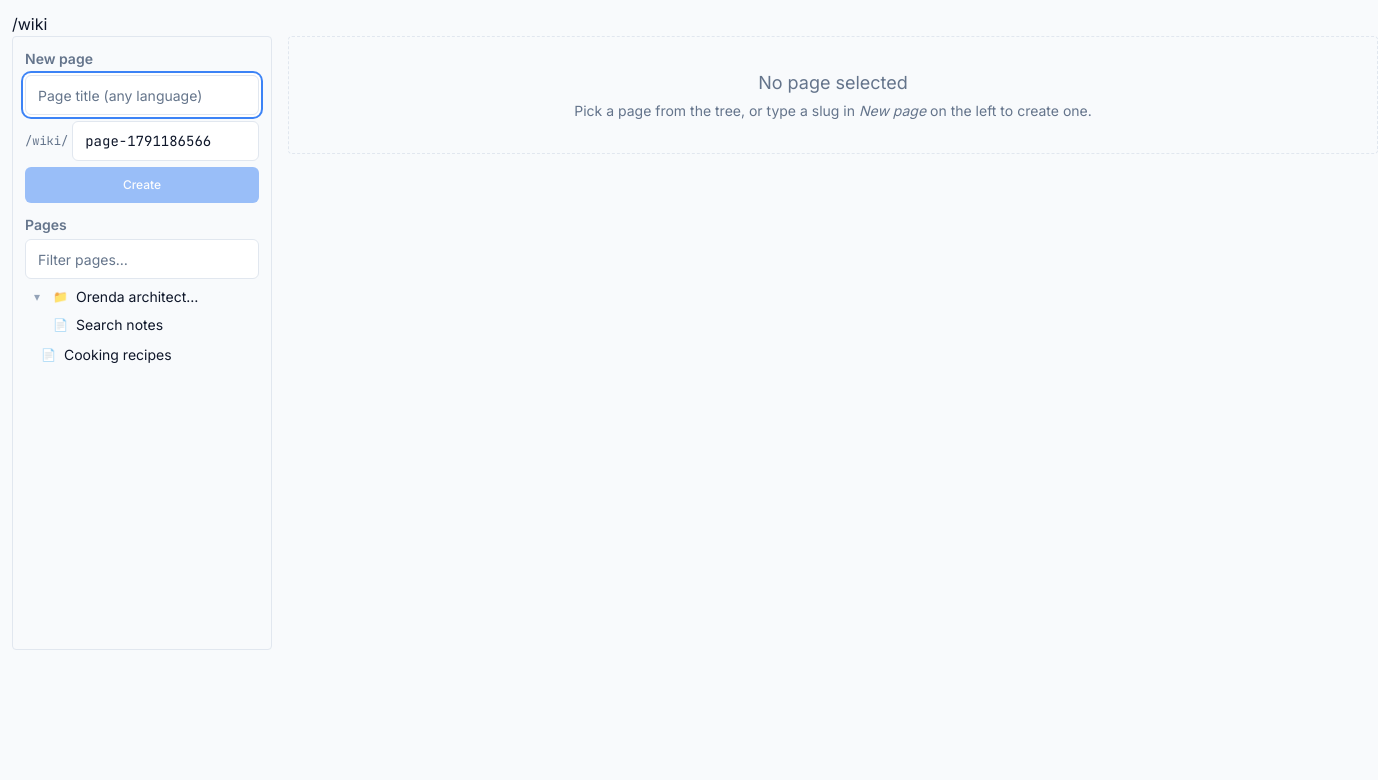
Test case: WikiSidebar search › shows no results state when the filter matches nothing
The width and height of the screenshot is (1378, 780).
Expected: the link "Orenda architecture" is shown, [72,283,205,311]
Type "zzz-no-such" into the field named "Search wiki". click: {"x": 142, "y": 259}
box: [25,239,259,279]
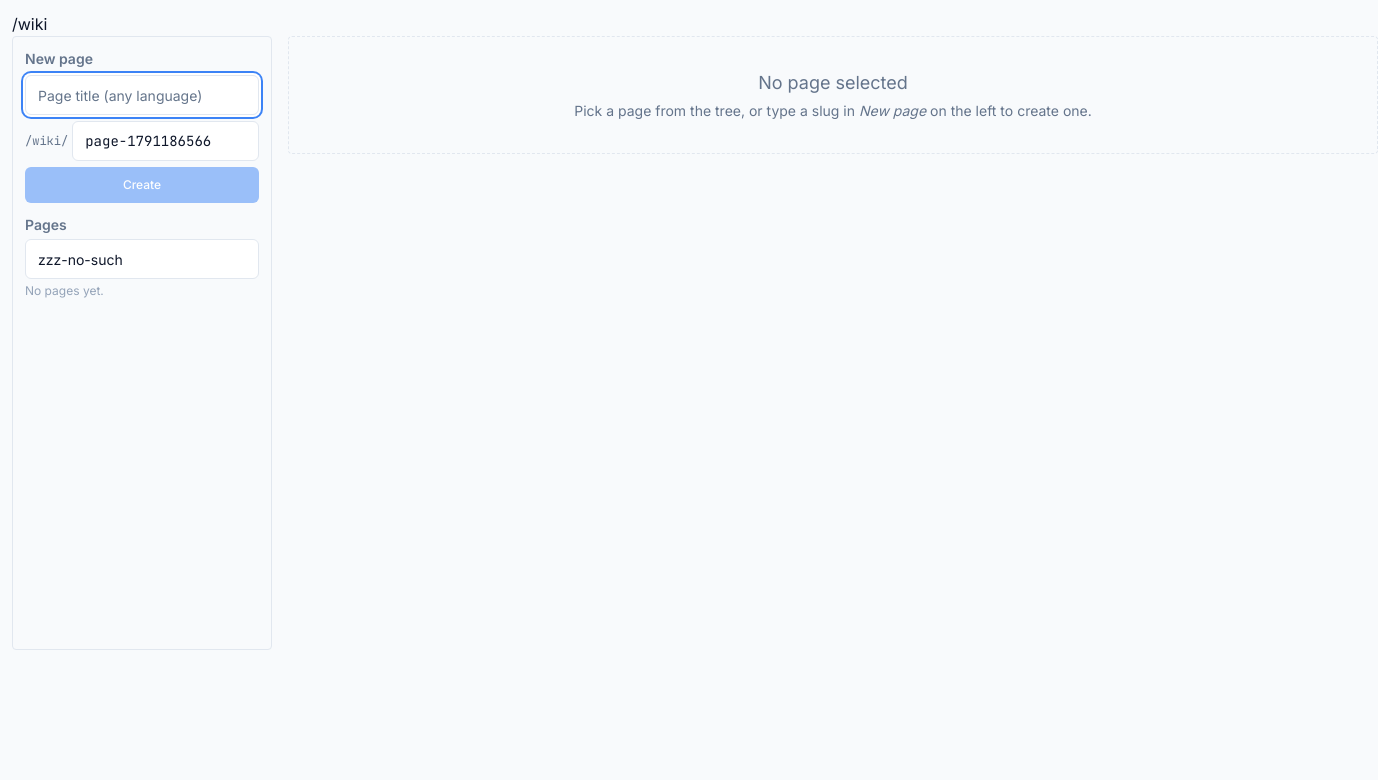
Expected: the link "Orenda architecture" is gone
Expected: the link "Cooking recipes" is gone
